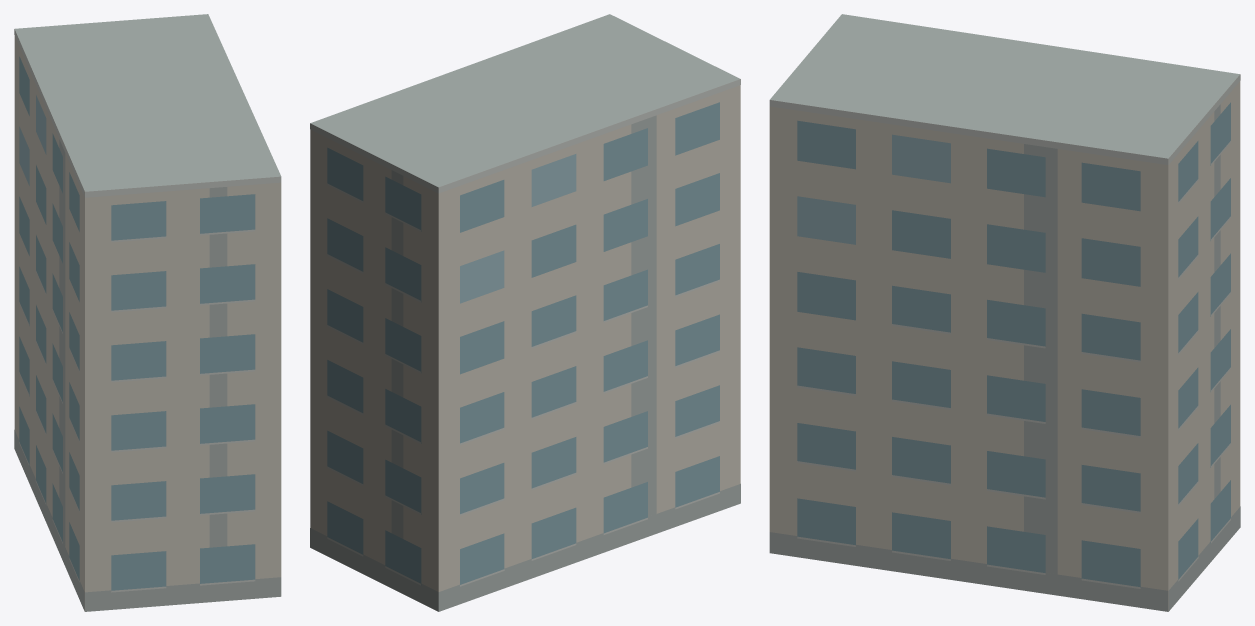
Rendered from survey-upis-32952571.glb.
3 views of the same model, side by side, from view 1: azimuth 30°, elevation 25°; view 2: azimuth 150°, elevation 25°; view 3: azimuth 270°, elevation 25° (orthographic). The views are drawn at different scales.
Visible parts, largest first — view 1: survey-upis-32952571.tmp; view 2: survey-upis-32952571.tmp; view 3: survey-upis-32952571.tmp.
Boxes of the visible parts, box(x1,y1,x2,y2) form: survey-upis-32952571.tmp: box(14, 14, 281, 611); survey-upis-32952571.tmp: box(310, 14, 740, 611); survey-upis-32952571.tmp: box(769, 14, 1240, 611).
Bounding box in the file's own units: 11.58 × 16.9 × 15.92.
